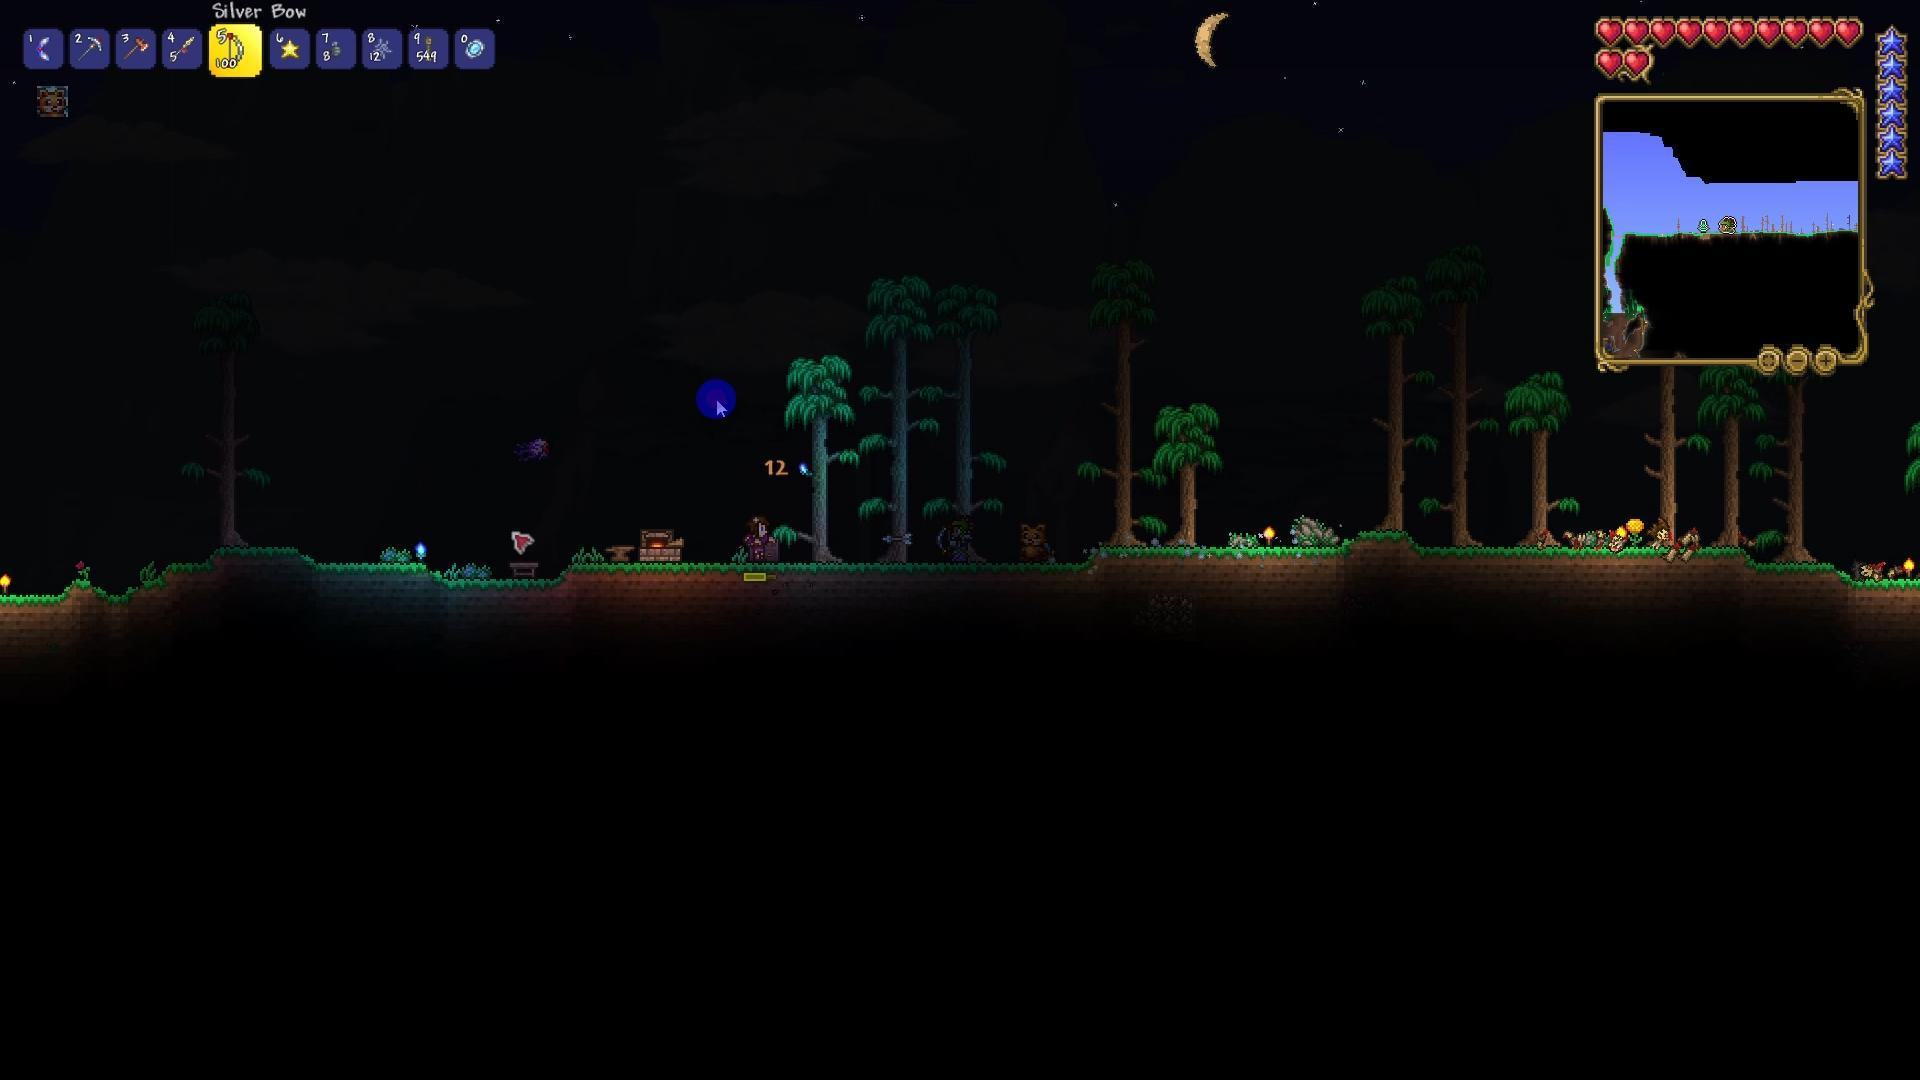dirt: (248, 558, 497, 633), (575, 558, 924, 600), (1460, 542, 1692, 599), (1100, 537, 1353, 575), (157, 541, 309, 593), (0, 567, 170, 613), (1751, 556, 1920, 600), (1349, 526, 1465, 564), (496, 572, 576, 599), (1695, 542, 1751, 574)
